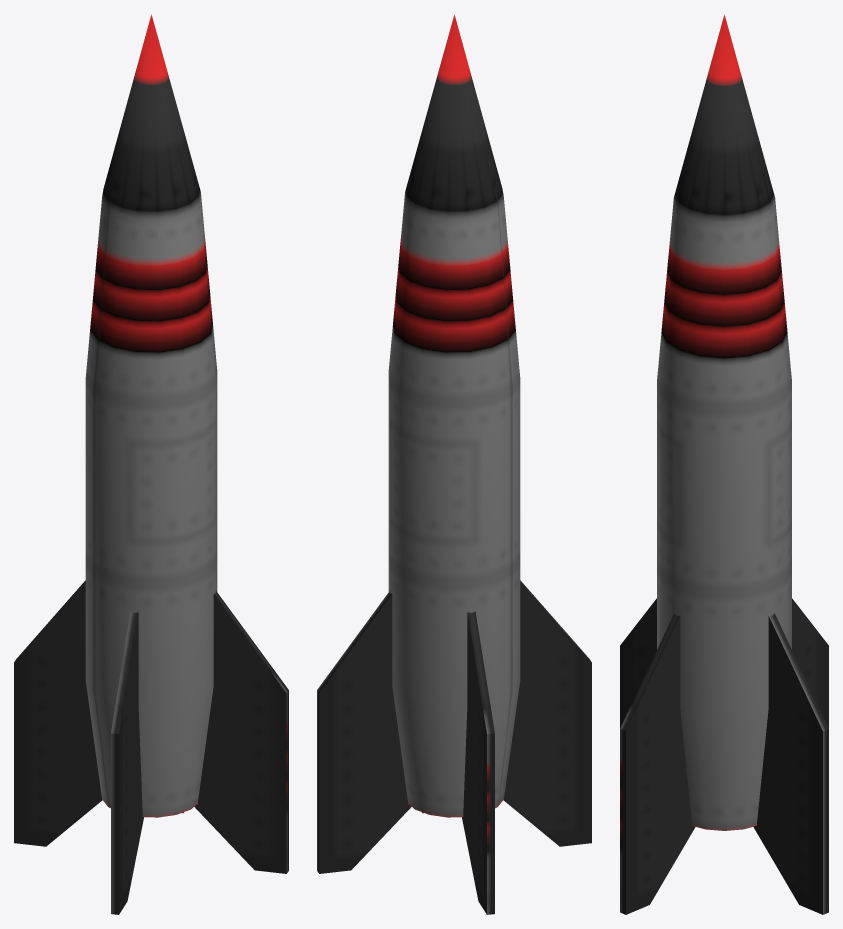
Rendered from missile_buster.obj.
The picture shows the model from 3 angles, left to right: view 1: azimuth 30°, elevation 25°; view 2: azimuth 150°, elevation 25°; view 3: azimuth 270°, elevation 25°; orthographic projection.
Parts seen in each view (by area): view 1: missile_buster; view 2: missile_buster; view 3: missile_buster.
Part boxes in pixels (box(x1,y1,x2,y2)): missile_buster: box(14, 14, 288, 914); missile_buster: box(317, 14, 591, 914); missile_buster: box(620, 14, 828, 914).
Size of the model in its own units: 1.55 by 7 by 1.55.
